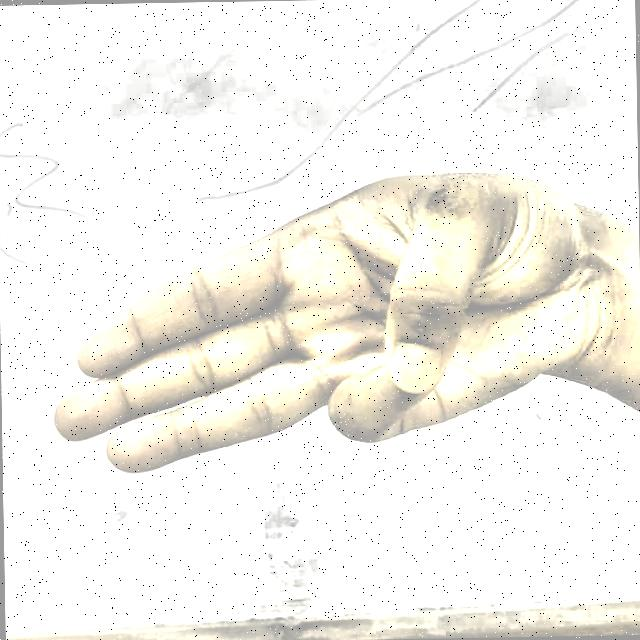Ma: (23, 158, 619, 516)
